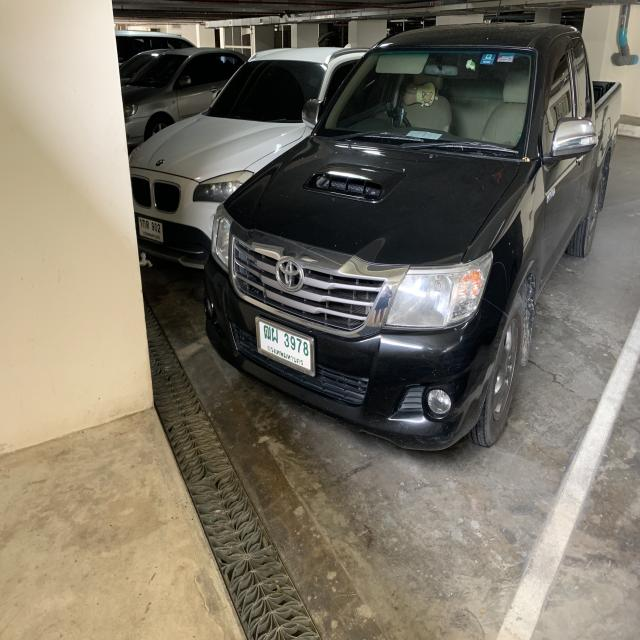license_plate: (254, 314, 318, 385), (138, 213, 166, 244)
